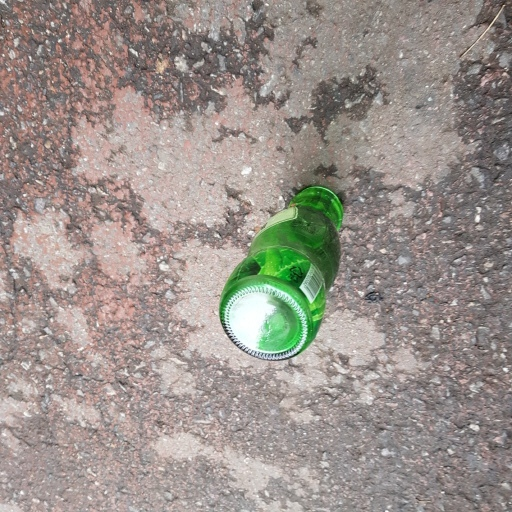Glass_4: (213, 180, 351, 368)
